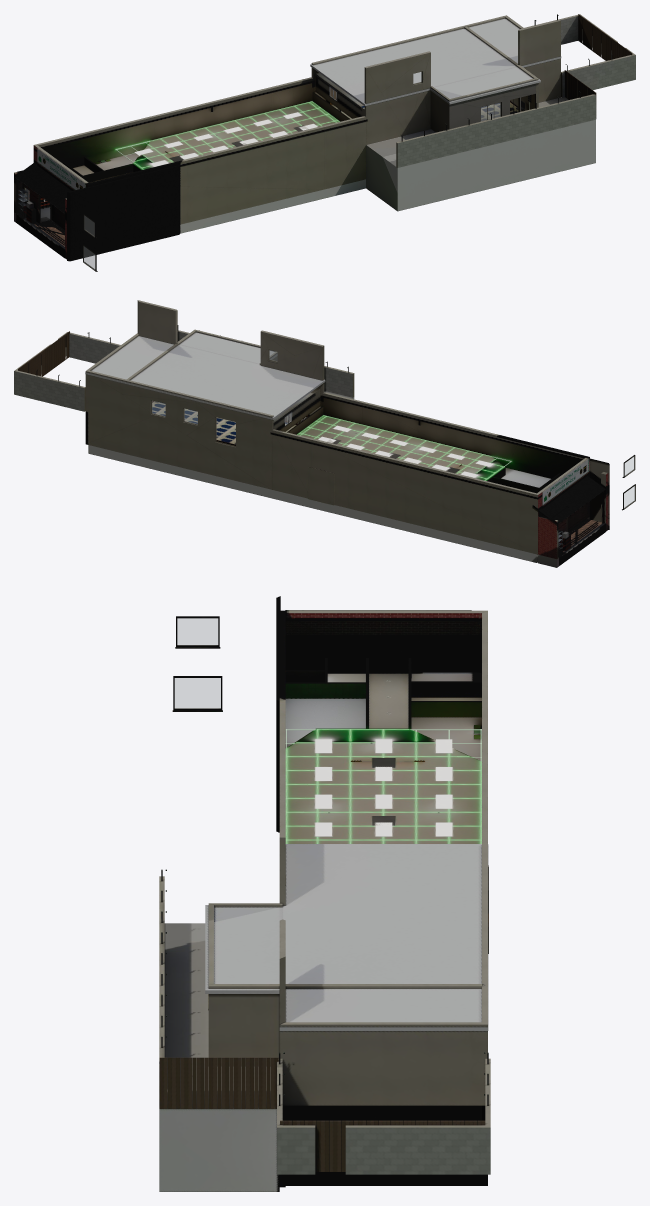
Rendered from baked_2k.glb.
The picture shows the model from 3 angles, top to bottom: view 1: azimuth 30°, elevation 25°; view 2: azimuth 150°, elevation 25°; view 3: azimuth 270°, elevation 25°; orthographic projection. The views are drawn at different scales.
Visible parts, largest first — view 1: wall_mosque_rear, Mesh_0, Mesh_30, wall_8kj3flic8dybzzbe, Mesh_1410; view 2: Mesh_0, wall_mosque_rear, Mesh_30, wall_8kj3flic8dybzzbe, Mesh_1410; view 3: wall_mosque_rear, Mesh_30, Mesh_0, wall_8kj3flic8dybzzbe, Mesh_34, Mesh_41.
Part boxes in pixels (x1,y1,x2,y2): wall_mosque_rear: [311, 14, 635, 211]; Mesh_0: [34, 77, 365, 233]; Mesh_30: [15, 14, 632, 271]; wall_8kj3flic8dybzzbe: [14, 145, 179, 261]; Mesh_1410: [40, 102, 522, 222]; Mesh_0: [88, 392, 589, 562]; wall_mosque_rear: [14, 300, 354, 489]; Mesh_30: [18, 325, 635, 557]; wall_8kj3flic8dybzzbe: [486, 457, 609, 567]; Mesh_1410: [152, 401, 296, 444]; wall_mosque_rear: [159, 777, 490, 1191]; Mesh_30: [159, 616, 488, 1171]; Mesh_0: [279, 611, 487, 1185]; wall_8kj3flic8dybzzbe: [276, 596, 487, 832]; Mesh_34: [175, 678, 220, 708]; Mesh_41: [177, 618, 217, 644].
Size of the model in its own units: 45.78 by 9.25 by 12.1.
6 materials, 5 textured.
